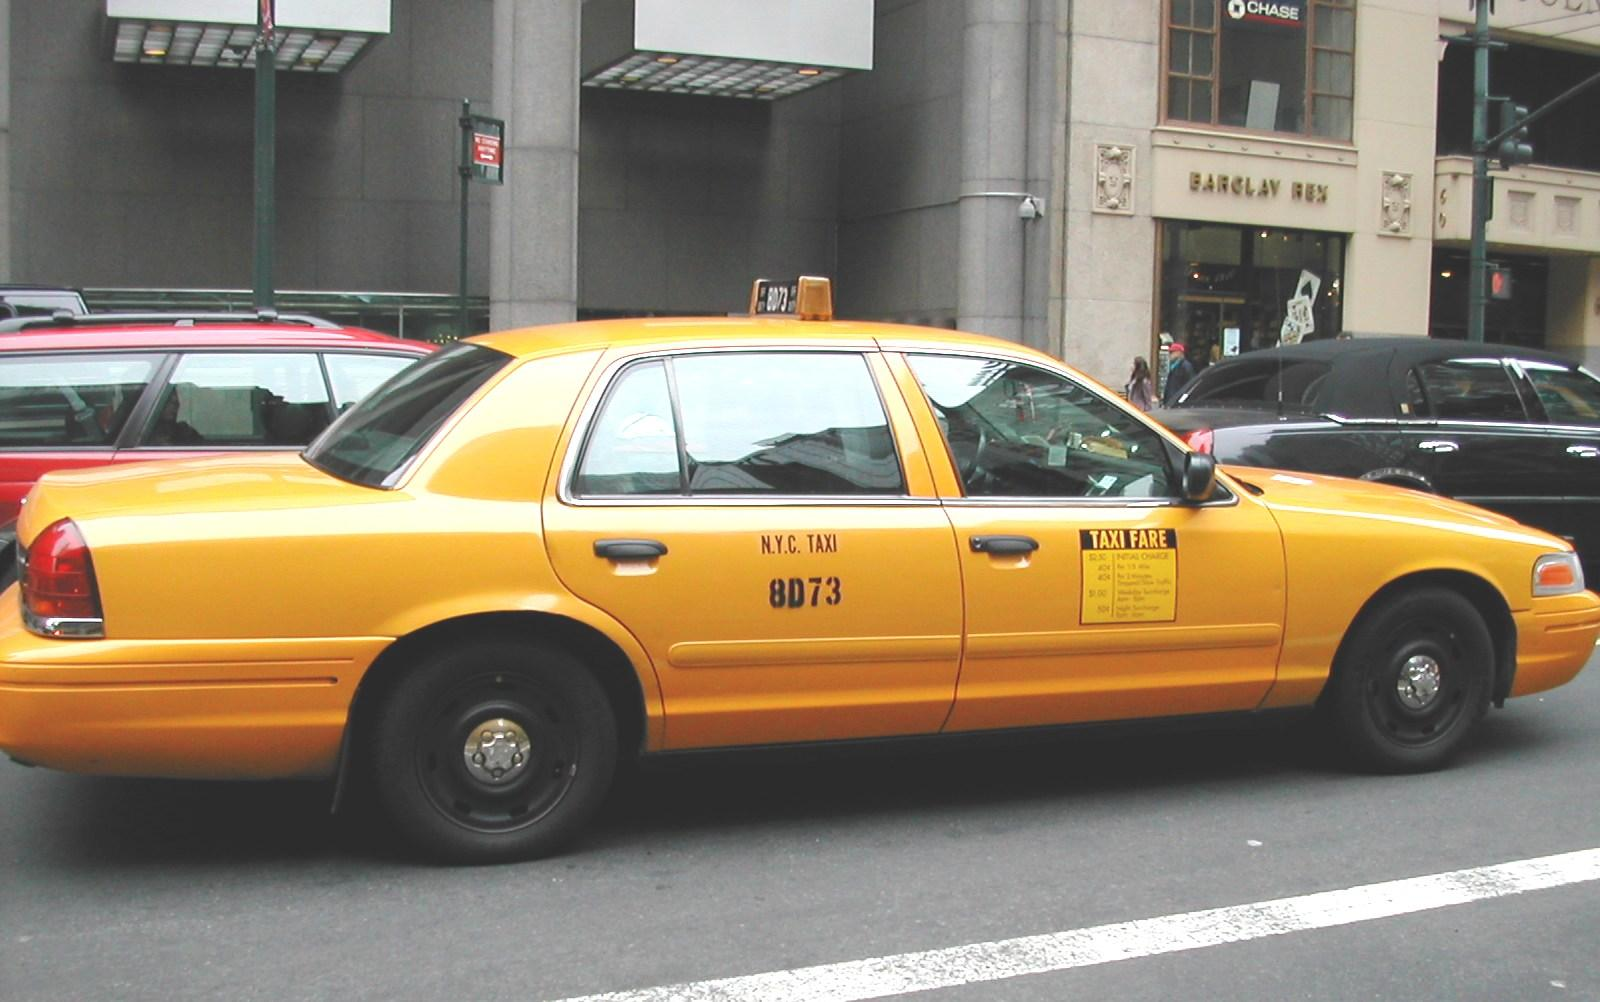taxi: (1, 286, 1598, 807)
